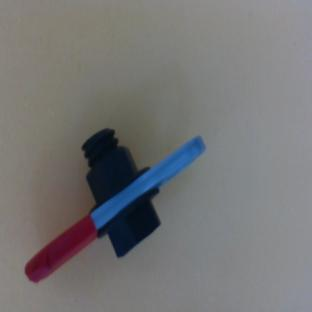part_1_good: (8, 87, 209, 312)
